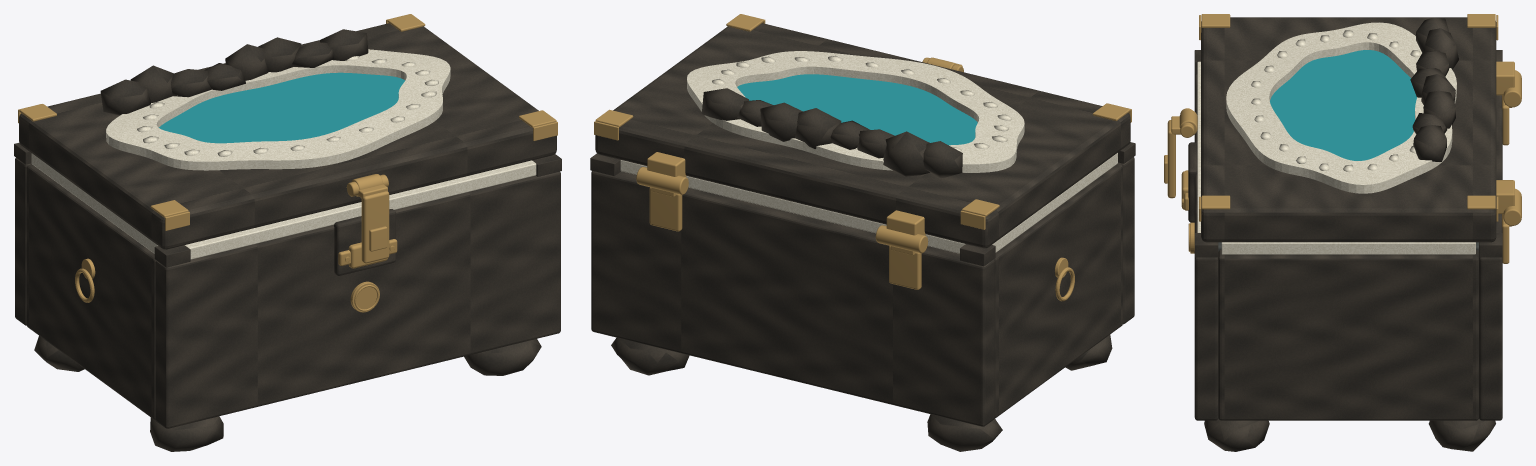
File: djibouti.glb
3 views of the same model, side by side, from view 1: azimuth 30°, elevation 25°; view 2: azimuth 150°, elevation 25°; view 3: azimuth 270°, elevation 25° (orthographic).
Visible parts, largest first — view 1: Basalt / long wall, Lid / polished slab, Basalt / side wall, Terrain / salt shelf, Terrain / Assal lake, Mineral seam / long, Basalt / long wall.001, Basalt foot, Basalt foot.002, Latch / lifting hasp, Basalt / clasp seat, Mineral seam / side (+11 smaller); view 2: Basalt / long wall.001, Lid / polished slab, Basalt / side wall, Terrain / salt shelf, Terrain / Assal lake, Mineral seam / long.001, Basalt / long wall, Basalt foot.001, Basalt foot.003, Terrain / rift escarpment.001, Mineral seam / side, Terrain / rift escarpment.004 (+15 smaller); view 3: Basalt / side wall.001, Lid / polished slab, Terrain / salt shelf, Terrain / Assal lake, Basalt / long wall.001, Basalt / long wall, Mineral seam / side.001, Basalt foot.002, Basalt foot.003, Terrain / rift escarpment.007, Terrain / rift escarpment.005, Terrain / rift escarpment.001 (+18 smaller).
Boxes of the visible parts, box(x1,y1,x2,y2) form: Basalt / long wall: box(155, 171, 560, 428); Lid / polished slab: box(19, 23, 556, 249); Basalt / side wall: box(26, 164, 156, 419); Terrain / salt shelf: box(106, 49, 450, 170); Terrain / Assal lake: box(159, 72, 404, 143); Mineral seam / long: box(185, 160, 536, 259); Basalt / long wall.001: box(15, 158, 31, 325); Basalt foot: box(150, 416, 223, 451); Basalt foot.002: box(464, 339, 541, 375); Latch / lifting hasp: box(361, 191, 389, 263); Basalt / clasp seat: box(334, 209, 395, 275); Mineral seam / side: box(31, 153, 157, 253); Basalt / long wall.001: box(591, 171, 994, 426); Lid / polished slab: box(595, 23, 1130, 248); Basalt / side wall: box(994, 163, 1122, 418); Terrain / salt shelf: box(687, 51, 1024, 172); Terrain / Assal lake: box(737, 74, 977, 145); Mineral seam / long.001: box(620, 160, 965, 253); Basalt / long wall: box(1118, 157, 1134, 324); Basalt foot.001: box(927, 414, 1002, 451); Basalt foot.003: box(611, 337, 689, 375); Terrain / rift escarpment.001: box(883, 131, 929, 176); Mineral seam / side: box(992, 153, 1117, 252); Terrain / rift escarpment.004: box(795, 108, 841, 148); Basalt / side wall.001: box(1218, 249, 1478, 420); Lid / polished slab: box(1201, 17, 1496, 242); Terrain / salt shelf: box(1226, 22, 1456, 193); Terrain / Assal lake: box(1270, 50, 1416, 160); Basalt / long wall.001: box(1479, 95, 1502, 420); Basalt / long wall: box(1194, 74, 1218, 420); Mineral seam / side.001: box(1221, 242, 1475, 254); Basalt foot.002: box(1204, 419, 1269, 451); Basalt foot.003: box(1428, 419, 1495, 451); Terrain / rift escarpment.007: box(1413, 125, 1446, 161); Terrain / rift escarpment.005: box(1423, 90, 1455, 128); Terrain / rift escarpment.001: box(1425, 28, 1458, 69).
Size of the model in its own units: 3.79 by 2.65 by 2.88.
Materials: 5 (2 with a texture image).
